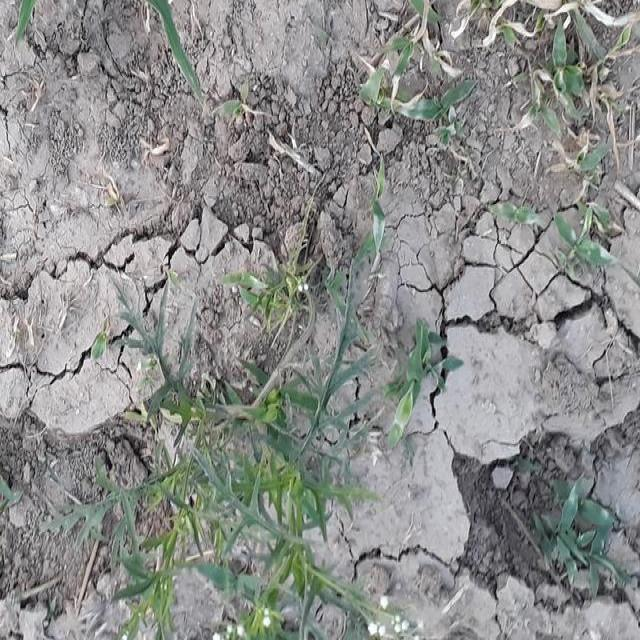weed: (89, 373, 415, 640), (345, 0, 637, 164)
